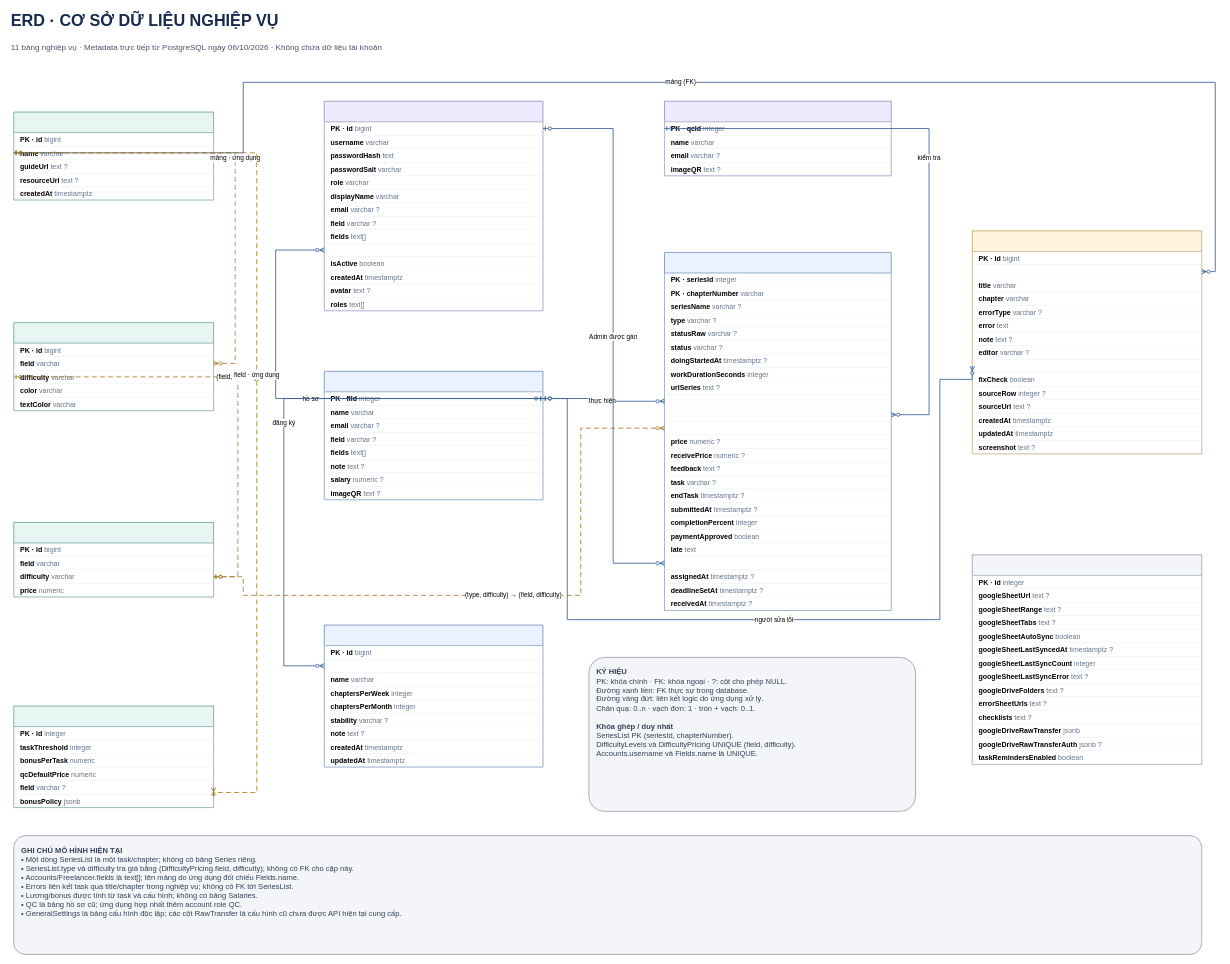
Image size: 1230x964. Some labels were removed from this diagram. The box of each missing label's shape, as (x1, y1, x2, y2) in pixels:
Accounts: (324, 101, 543, 311)
BonusSettings: (13, 706, 214, 808)
DeadlineRegistrations: (324, 625, 543, 767)
difficulty varchar ?: (664, 421, 891, 435)
DifficultyLevels: (13, 322, 214, 411)
DifficultyPricing: (13, 522, 214, 597)
Errors: (972, 230, 1202, 454)
Fields: (13, 112, 214, 200)
FK · assignedAdminId bigint ?: (664, 556, 891, 570)
FK · editorFreelancerId integer ?: (972, 359, 1202, 373)
FK · field varchar: (972, 264, 1202, 278)
FK · fIld integer: (324, 659, 543, 672)
FK · fIld integer ?: (664, 394, 891, 408)
FK · freelancerId integer ?: (324, 243, 543, 257)
FK · qcId integer ?: (664, 408, 891, 421)
Freelancer: (324, 371, 543, 500)
GeneralSettings: (972, 554, 1202, 764)
QC: (664, 101, 891, 176)
SeriesList: (664, 252, 891, 610)
